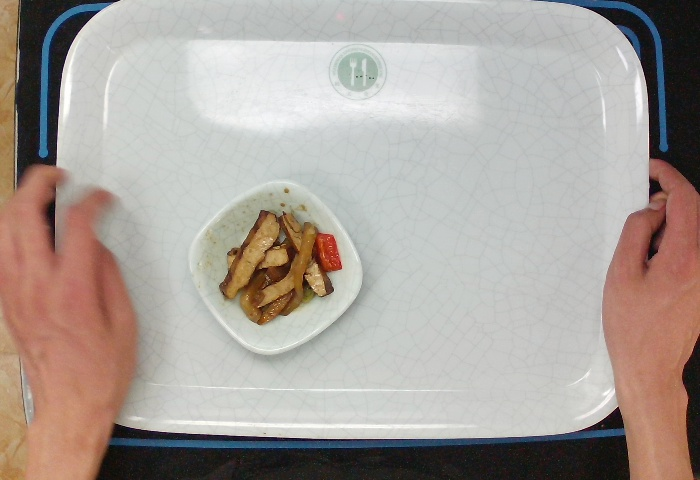JYsf-Si_Fang_Die: (184, 175, 368, 360)
